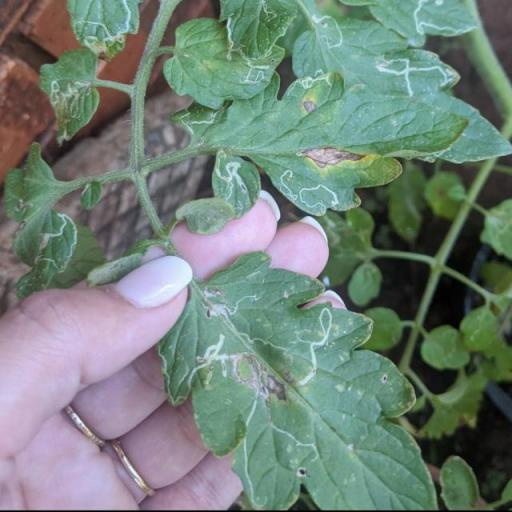disease_tomato: (160, 252, 440, 512), (212, 151, 262, 219)
